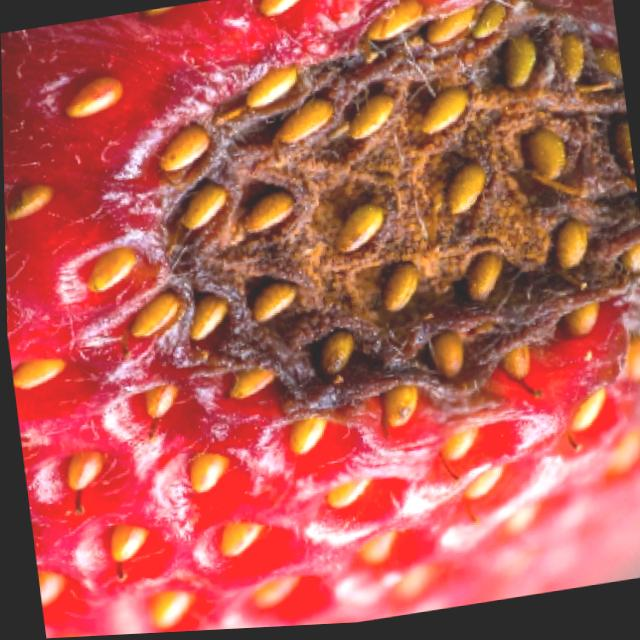Anthracnose Fruit Rot: (62, 0, 640, 524)
